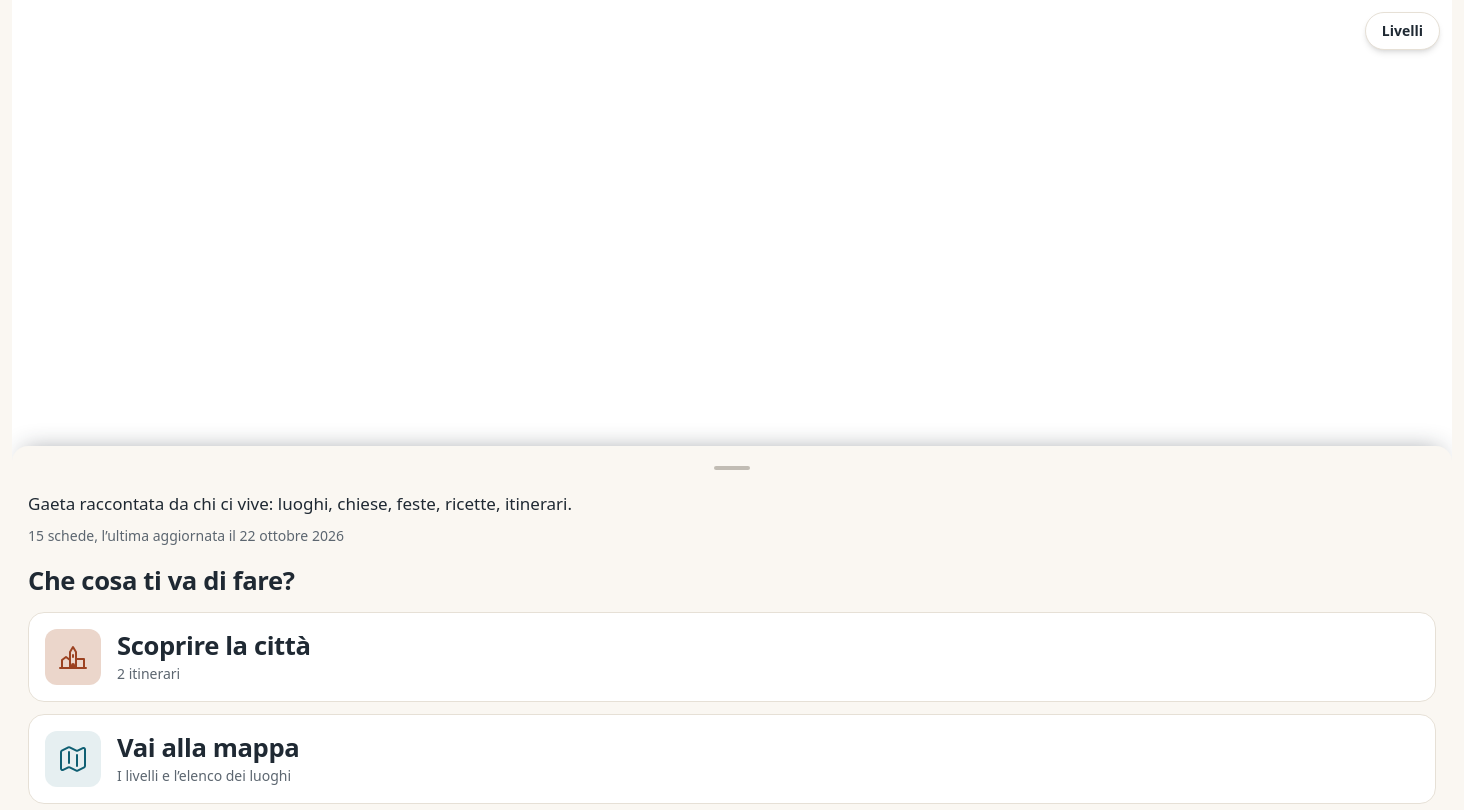
Scenario: HomeView on a phone (spec/design.md D3/D4/D5) › keeps the layer controls behind a floating button instead of beside the map (D4)
Click the button "Livelli" at (1402, 31), box [1365, 12, 1440, 50]
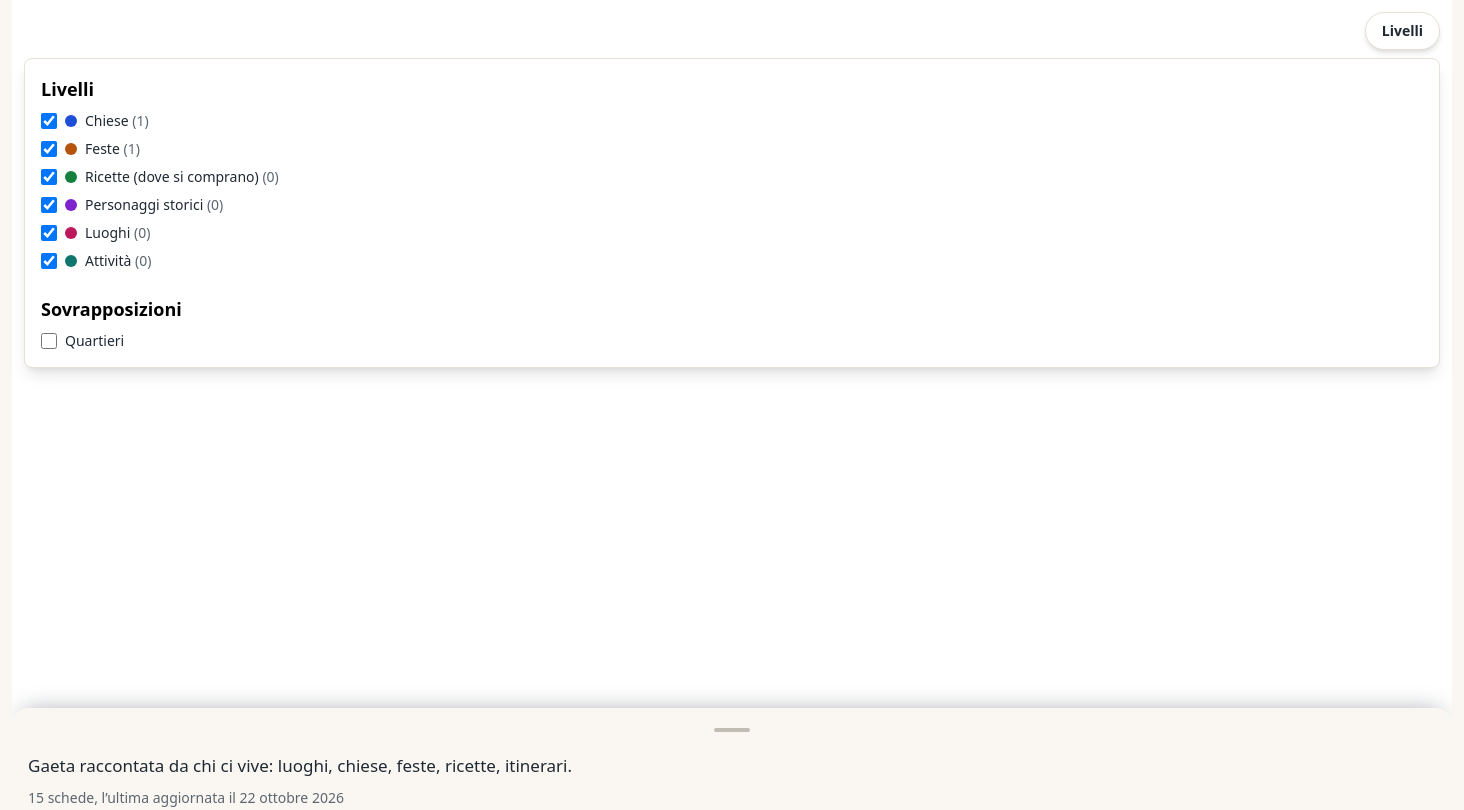
Check: the checkbox with id "layer-chiese" is shown, box [41, 113, 57, 129]
